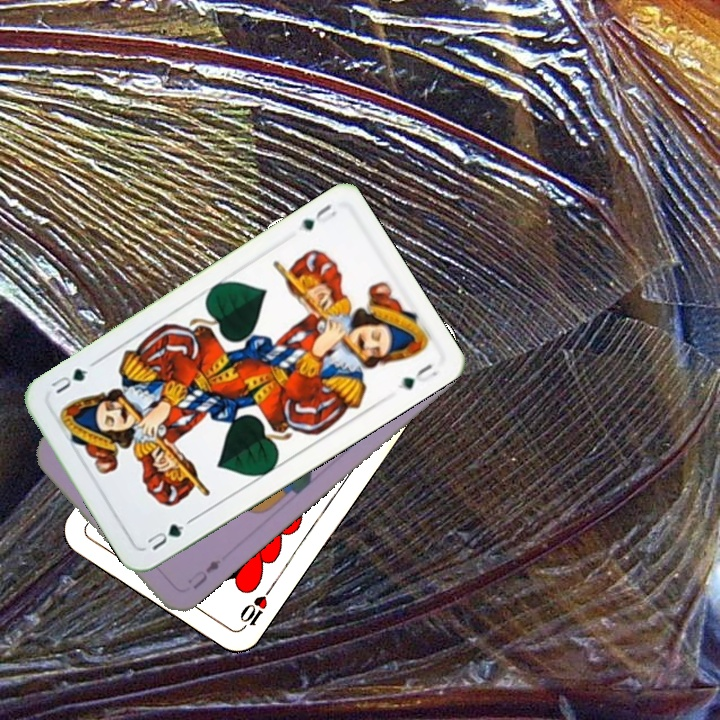EU: (183, 555, 224, 592)
GU: (296, 199, 339, 234), (143, 519, 187, 553)
H10: (235, 582, 276, 634)
